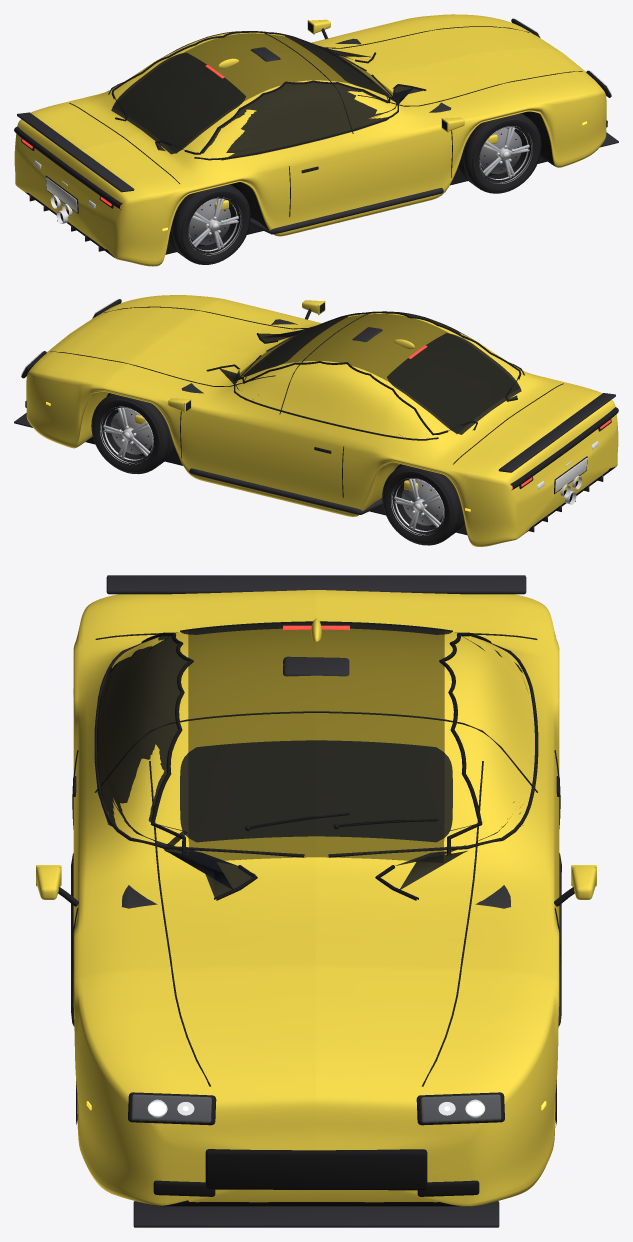
3 renders of one model, top to bottom at view 1: azimuth 30°, elevation 25°; view 2: azimuth 150°, elevation 25°; view 3: azimuth 270°, elevation 25°, orthographic. The views are drawn at different scales.
Parts seen in each view (by area): view 1: body, glass_side_R, glass_screen_1, wheel_RR_tyre, wheel_FR_tyre, wing_lip, side_skirt, glass_screen_0, wheel_RR_disc, wheel_FR_disc, tail_housing, wheel_FR_barrel (+6 smaller); view 2: body, glass_screen_1, wheel_RL_tyre, wheel_FL_tyre, wing_lip, side_skirt.001, glass_screen_0, wheel_RL_disc, wheel_FL_disc, tail_housing, seal_L.001, belt_trim.001 (+6 smaller); view 3: body, glass_screen_0, glass_side_R, grille_back, splitter, wing_lip, head_housing.001, head_housing, head_lens.001, head_lens, glass_screen_1, belt_trim.001 (+8 smaller).
Boxes of the visible parts, left/top/right/bottom form: body: left=14, top=14, right=606, bottom=266; glass_side_R: left=156, top=82, right=424, bottom=160; glass_screen_1: left=111, top=52, right=245, bottom=154; wheel_RR_tyre: left=168, top=184, right=250, bottom=264; wheel_FR_tyre: left=458, top=113, right=541, bottom=193; wing_lip: left=17, top=112, right=134, bottom=192; side_skirt: left=250, top=188, right=443, bottom=234; glass_screen_0: left=285, top=36, right=389, bottom=96; wheel_RR_disc: left=189, top=199, right=230, bottom=245; wheel_FR_disc: left=480, top=128, right=522, bottom=173; tail_housing: left=14, top=126, right=122, bottom=209; wheel_FR_barrel: left=479, top=127, right=530, bottom=181; body: left=26, top=295, right=618, bottom=546; glass_screen_1: left=387, top=333, right=521, bottom=434; wheel_RL_tyre: left=382, top=464, right=464, bottom=545; wheel_FL_tyre: left=91, top=393, right=174, bottom=474; wing_lip: left=498, top=393, right=615, bottom=472; side_skirt.001: left=189, top=468, right=382, bottom=514; glass_screen_0: left=243, top=316, right=347, bottom=376; wheel_RL_disc: left=402, top=480, right=443, bottom=525; wheel_FL_disc: left=110, top=408, right=152, bottom=454; tail_housing: left=510, top=407, right=618, bottom=490; seal_L.001: left=233, top=361, right=448, bottom=435; belt_trim.001: left=234, top=355, right=438, bottom=440; body: left=73, top=590, right=559, bottom=1206; glass_screen_0: left=180, top=740, right=452, bottom=842; glass_side_R: left=94, top=635, right=255, bottom=898; grille_back: left=205, top=1149, right=427, bottom=1190; splitter: left=133, top=1201, right=499, bottom=1227; wing_lip: left=106, top=575, right=526, bottom=594; head_housing.001: left=416, top=1092, right=504, bottom=1125; head_housing: left=128, top=1092, right=216, bottom=1125; head_lens.001: left=421, top=1094, right=500, bottom=1122; head_lens: left=132, top=1094, right=211, bottom=1122; glass_screen_1: left=180, top=621, right=452, bottom=634; belt_trim.001: left=328, top=643, right=538, bottom=857.
Size of the model in its own units: 4.59 by 1.24 by 2.17.
